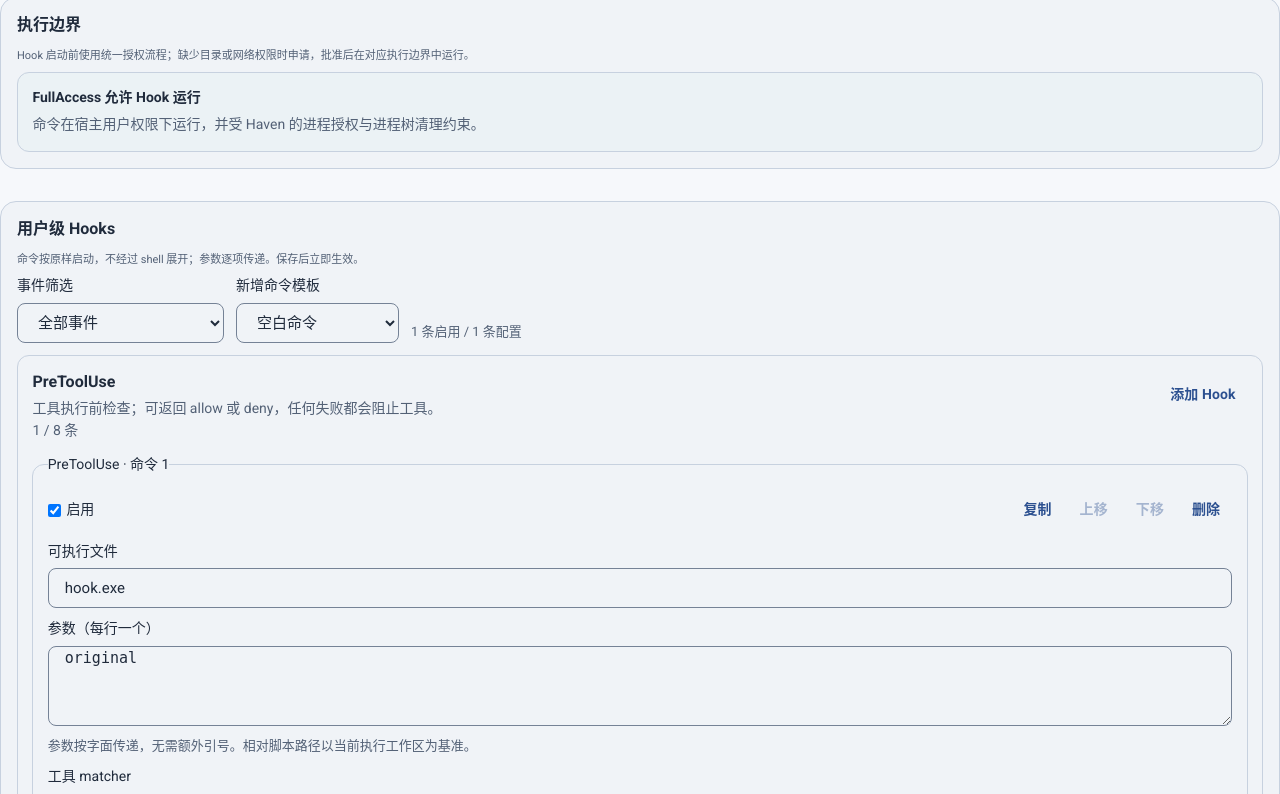
SettingsHooks › keeps the editor and unsaved input after a failed save and allows retry
The width and height of the screenshot is (1280, 794).
Replace the text in the field labelled "可执行文件" with "changed.exe" at [640, 588], box [48,568,1232,608]
(page scrolled)
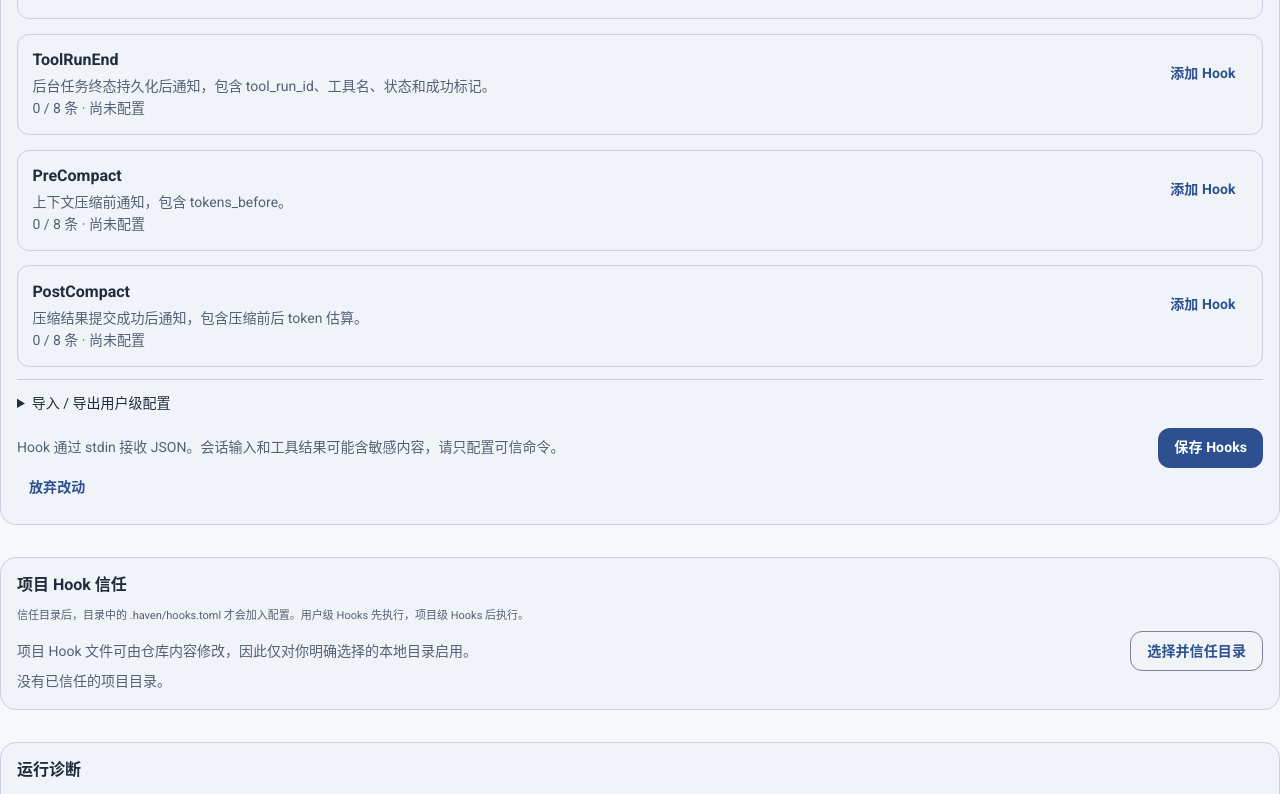
Click the button "保存 Hooks" at [1211, 448], box [1158,428,1263,468]
(page scrolled)
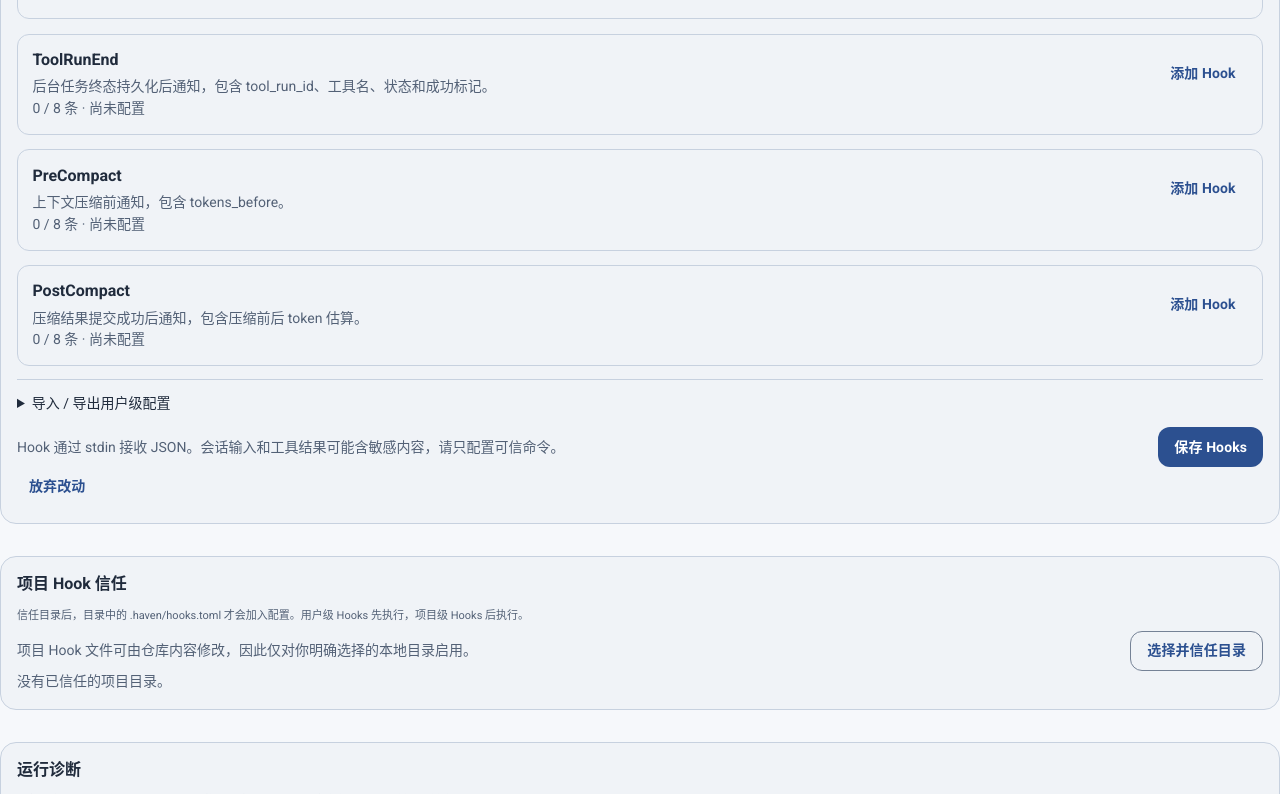
Click the button "保存 Hooks" at [1211, 447], box [1158,427,1263,467]
(page scrolled)
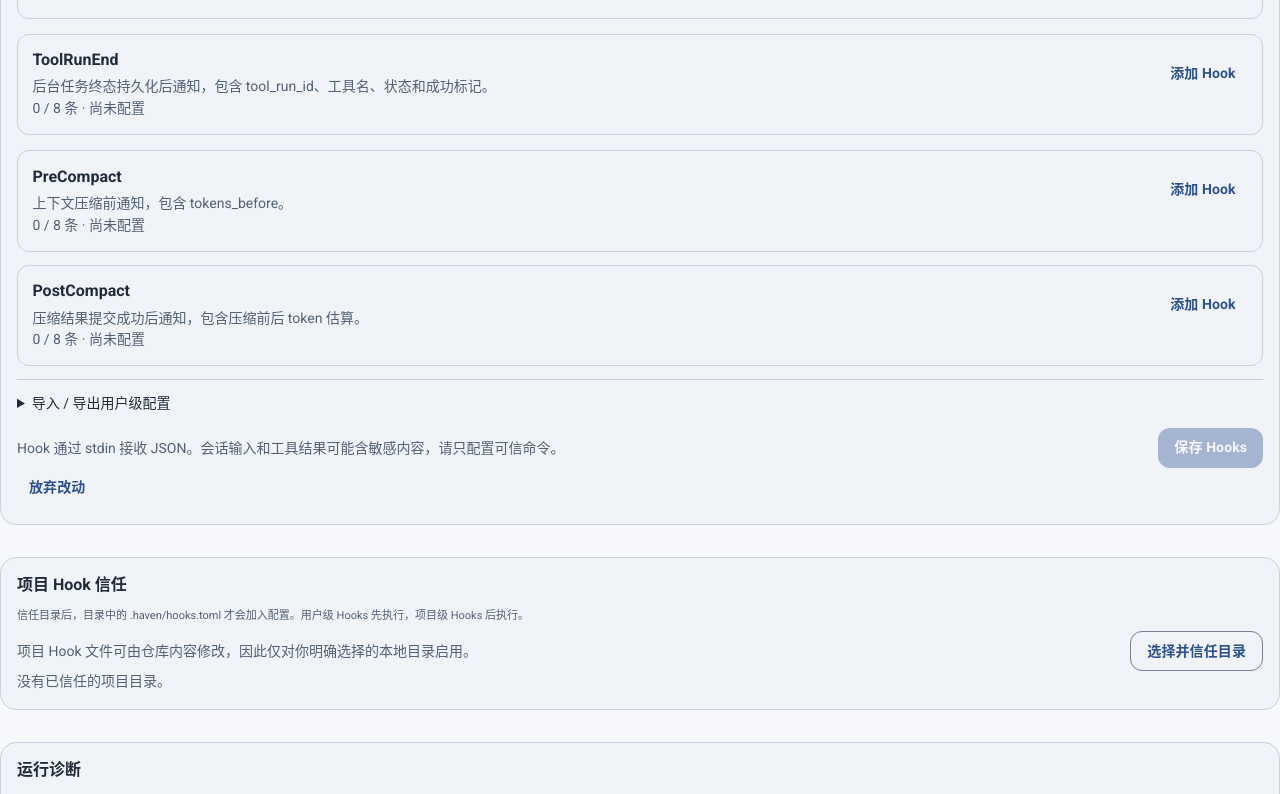
Expected: the button "保存 Hooks" is disabled, [1158,428,1263,468]
